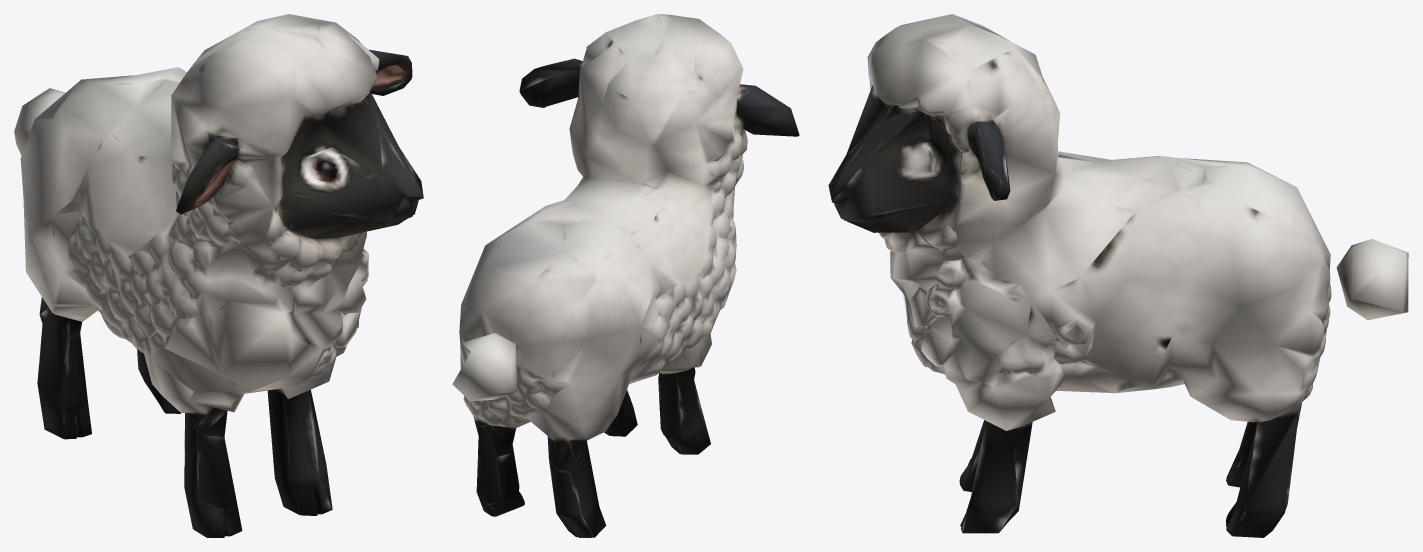
File: lifecycle_sheep_lamb.glb
3 renders of one model, left to right at view 1: azimuth 30°, elevation 25°; view 2: azimuth 150°, elevation 25°; view 3: azimuth 270°, elevation 25°, orthographic. The views are drawn at different scales.
Parts seen in each view (by area): view 1: node_0; view 2: node_0; view 3: node_0.
Boxes of the visible parts, x1,y1,x2,y2 form: node_0: (14, 14, 423, 537); node_0: (452, 14, 799, 537); node_0: (828, 14, 1408, 537).
Size of the model in its own units: 0.5557 by 0.9153 by 0.9968.
1 material, 1 textured.
